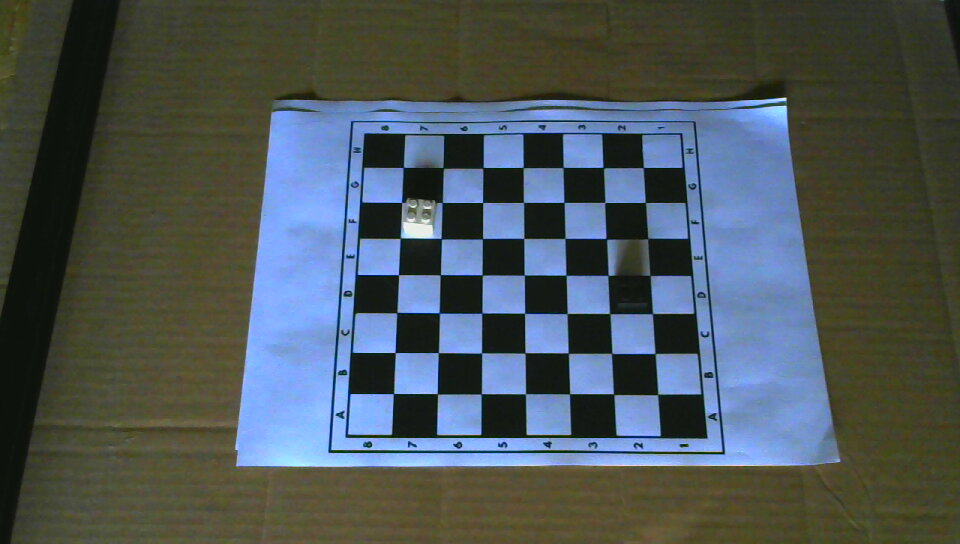bp: (613, 274, 653, 311)
wp: (403, 194, 437, 237)
